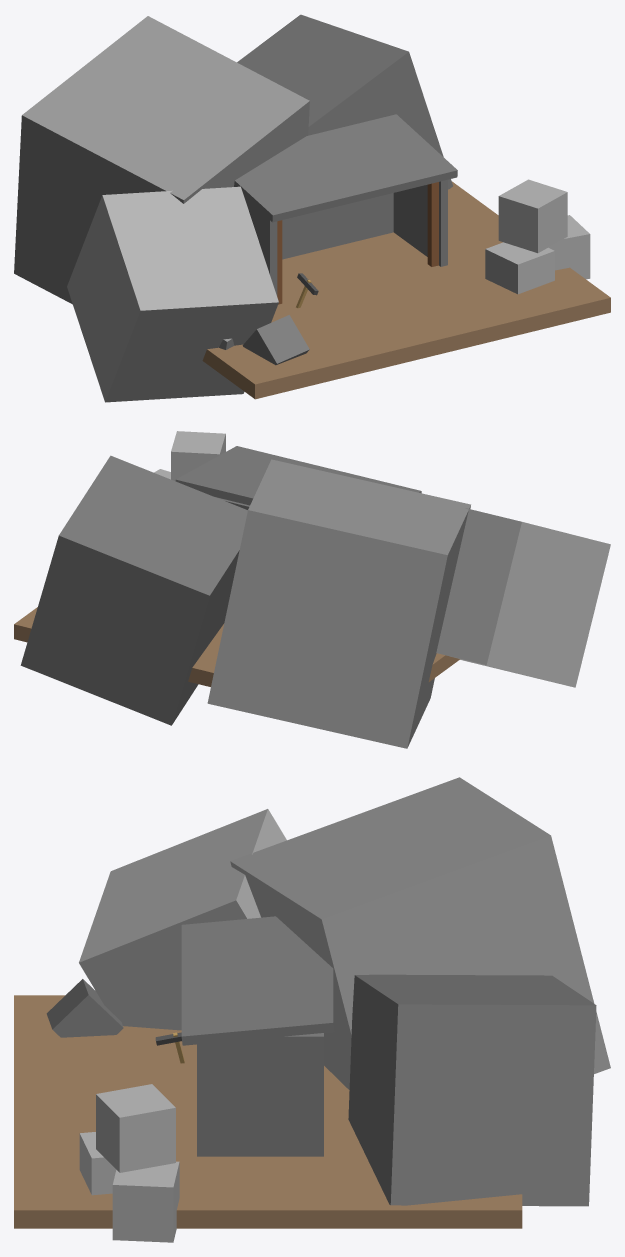
Rendered from quarry.glb.
3 views of the same model, one above another, from view 1: azimuth 30°, elevation 25°; view 2: azimuth 150°, elevation 25°; view 3: azimuth 270°, elevation 25° (orthographic). The views are drawn at different scales.
Visible parts, largest first — view 1: RockFormation (×4), GroundBase, ShelterRoof, ShelterBack, Block3, Block1, ShelterRight, Block2, ShelterLeft, BeamRight; view 2: RockFormation (×3), ShelterRoof, Block3, GroundBase; view 3: RockFormation (×4), GroundBase, ShelterRoof, ShelterRight, Block3, Block2, Block1, ShelterBack.
Part boxes in pixels (x1,y1,x2,y2): RockFormation (×4): (14,14,452,402); GroundBase: (202,181,610,399); ShelterRoof: (234,114,457,222); ShelterBack: (282,193,393,259); Block3: (498,179,567,253); Block1: (485,242,554,294); ShelterRight: (393,179,447,266); Block2: (548,215,590,279); ShelterLeft: (244,197,277,296); BeamRight: (427,182,438,266); RockFormation (×3): (20,455,610,748); ShelterRoof: (175,446,421,505); Block3: (171,431,225,481); GroundBase: (14,607,460,686); RockFormation (×4): (46,777,610,1206); GroundBase: (14,995,522,1228); ShelterRoof: (181,916,334,1045); ShelterRight: (197,1033,318,1156); Block3: (96,1084,175,1172); Block2: (112,1161,179,1242); Block1: (79,1132,116,1195); ShelterBack: (314,1033,323,1156).
Size of the model in its own units: 6.39 by 3.35 by 5.87.
